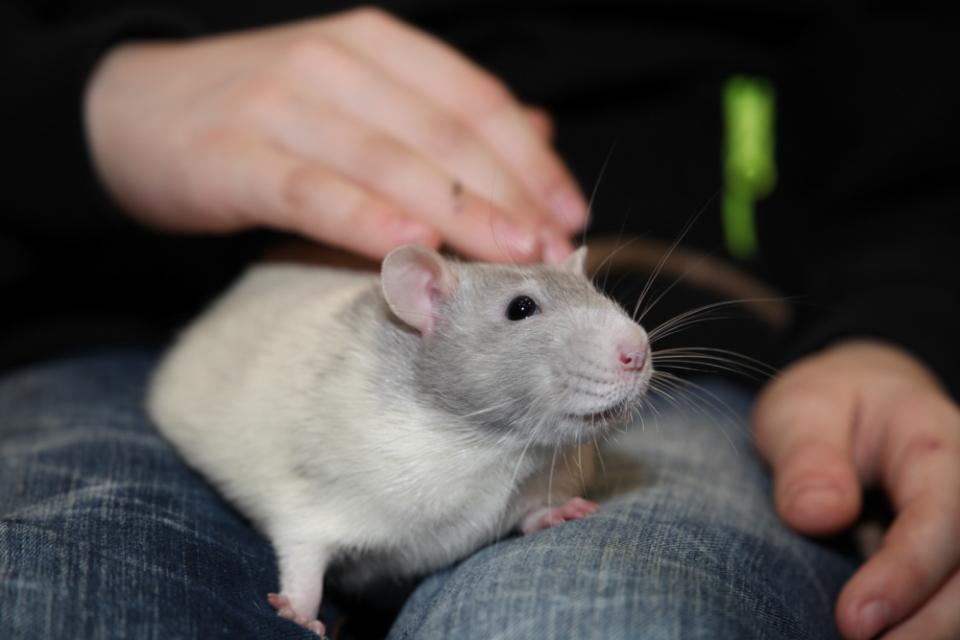rat: (252, 239, 672, 635)
